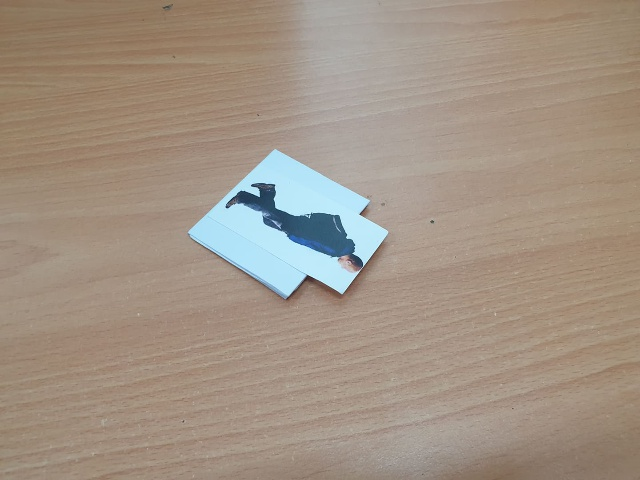Person: (224, 182, 368, 274)
